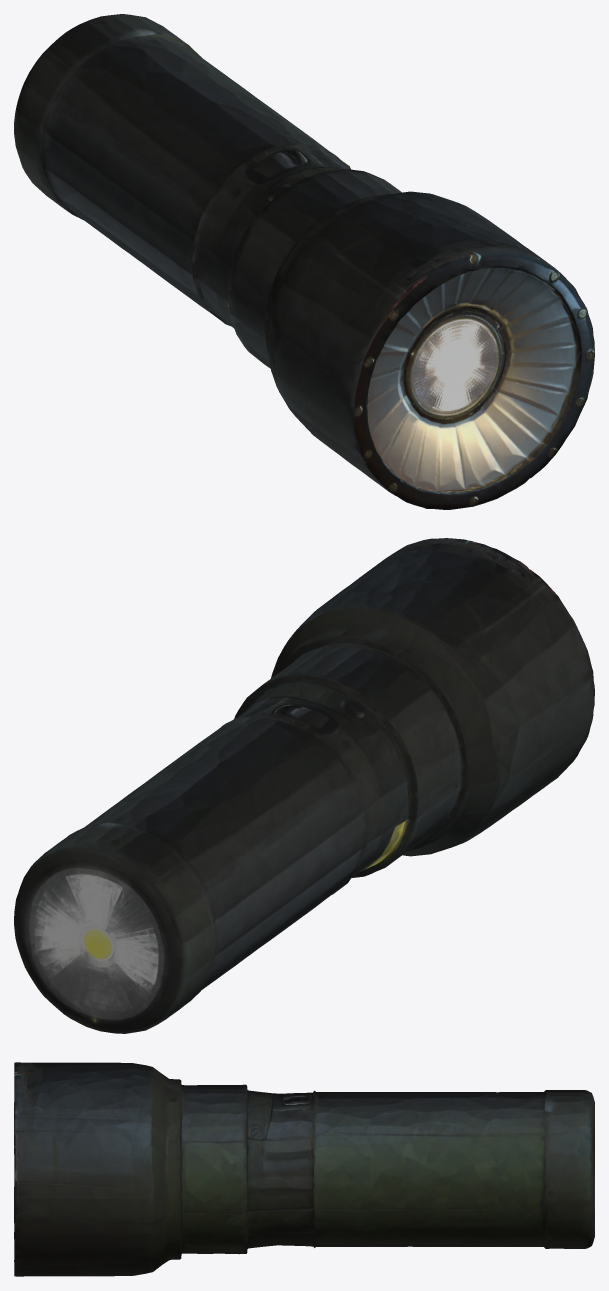
File: Low_poly_flashlight_0124174404_texture.fbx
3 views of the same model, one above another, from view 1: azimuth 30°, elevation 25°; view 2: azimuth 150°, elevation 25°; view 3: azimuth 270°, elevation 25° (orthographic). The views are drawn at different scales.
Parts seen in each view (by area): view 1: Mesh1_Mesh1.015; view 2: Mesh1_Mesh1.015; view 3: Mesh1_Mesh1.015.
Boxes of the visible parts, x1,y1,x2,y2 form: Mesh1_Mesh1.015: [14, 14, 594, 509]; Mesh1_Mesh1.015: [14, 538, 594, 1033]; Mesh1_Mesh1.015: [14, 1062, 594, 1276].
Size of the model in its own units: 74.34 by 73.61 by 200.
1 material, 1 textured.
